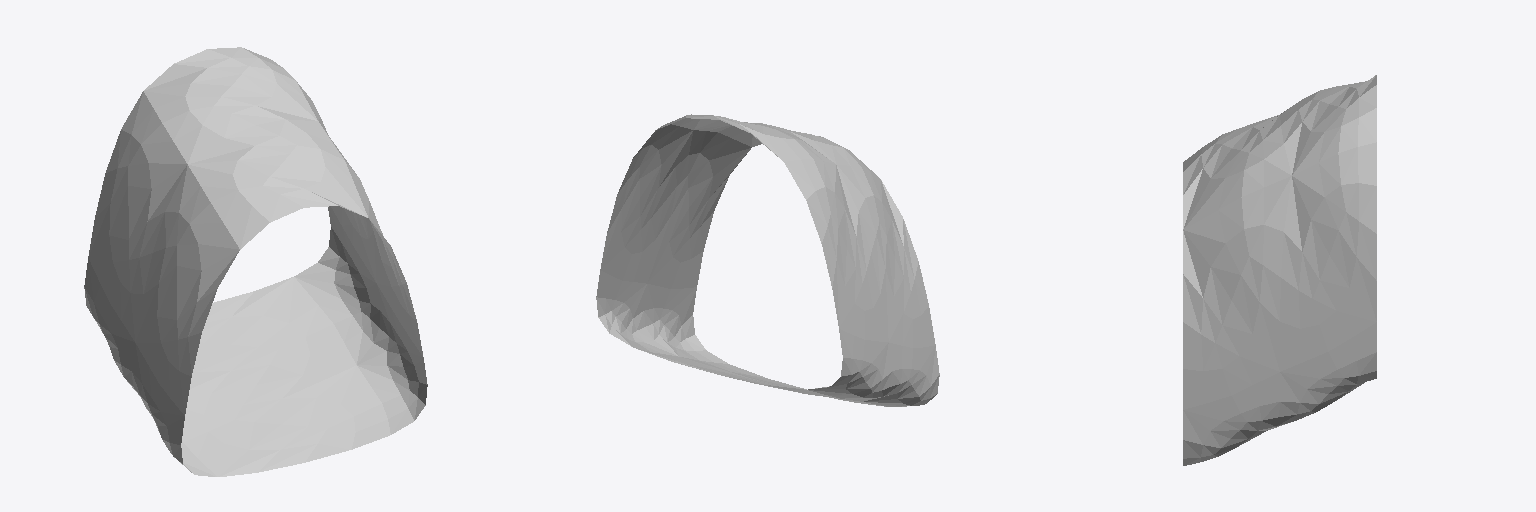
File: cave_0_2.obj
The picture shows the model from 3 angles: view 1: azimuth 30°, elevation 25°; view 2: azimuth 150°, elevation 25°; view 3: azimuth 270°, elevation 25°; orthographic projection.
Visible parts, largest first — view 1: cave_0_2_Cube.004; view 2: cave_0_2_Cube.004; view 3: cave_0_2_Cube.004.
Boxes of the visible parts, x1=… form: cave_0_2_Cube.004: x1=84, y1=47, x2=427, y2=476; cave_0_2_Cube.004: x1=596, y1=114, x2=939, y2=406; cave_0_2_Cube.004: x1=1183, y1=75, x2=1376, y2=465.
Bounding box in the file's own units: 5.95 × 7.81 × 4.